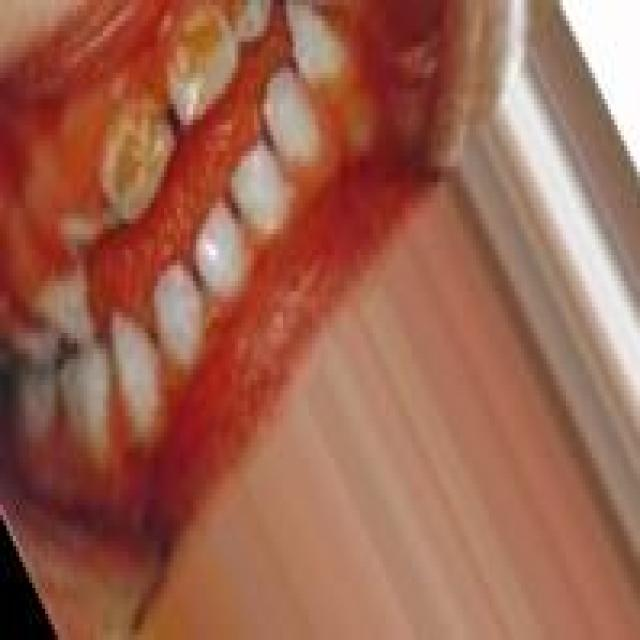caries: (96, 100, 174, 220), (166, 4, 238, 112)
